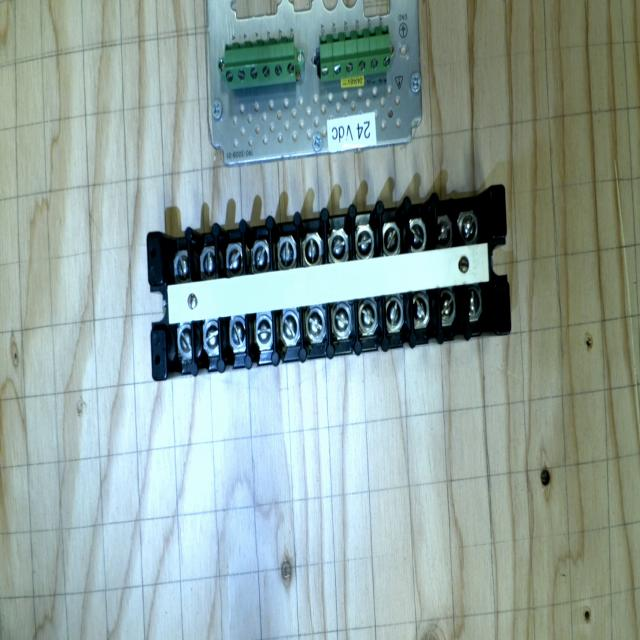Flathead_Block: (134, 186, 524, 380)
Terminal_1: (314, 25, 396, 82), (221, 36, 299, 90)
